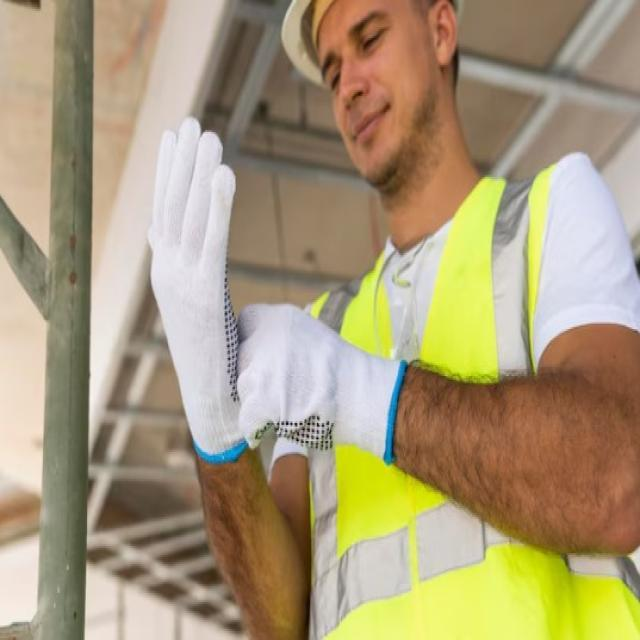gloved: (144, 114, 260, 464), (235, 300, 408, 467)
